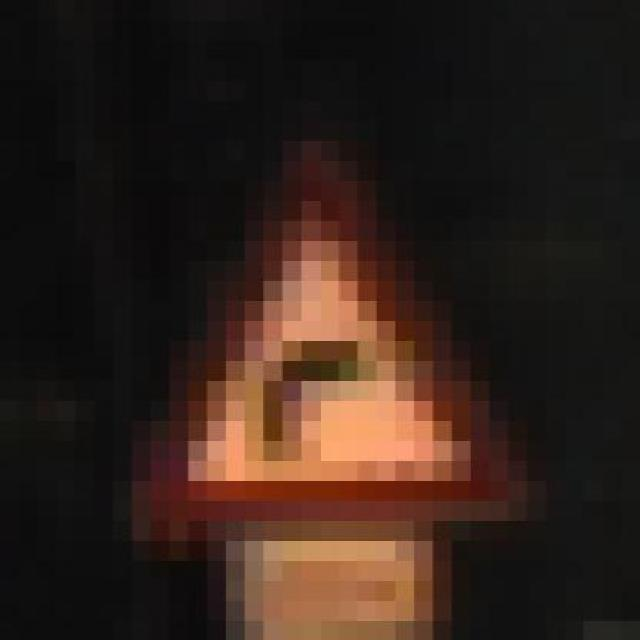Dangerous Rright Curve Ahead: (112, 160, 546, 560)
